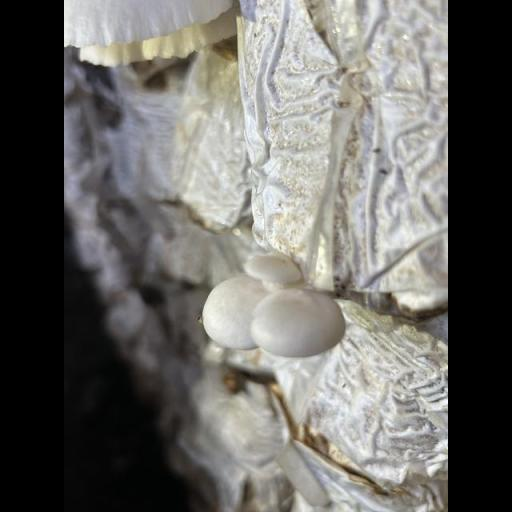White Oyster Mushroom: (202, 254, 345, 357)
